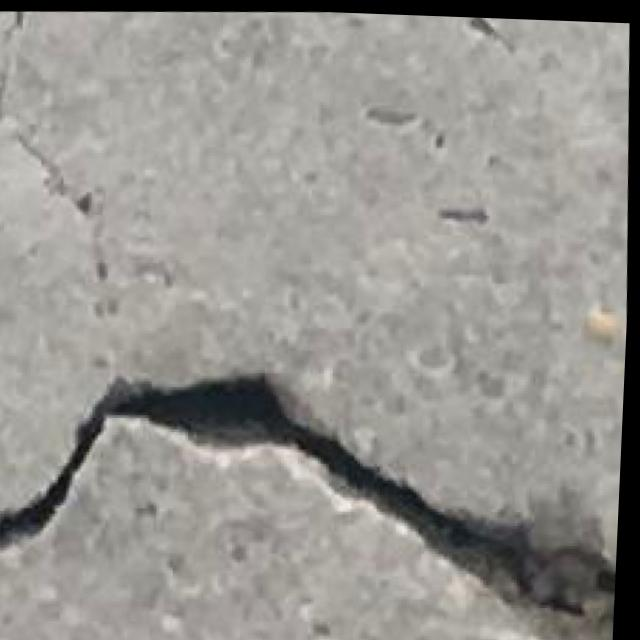Crack: (0, 338, 628, 640)
